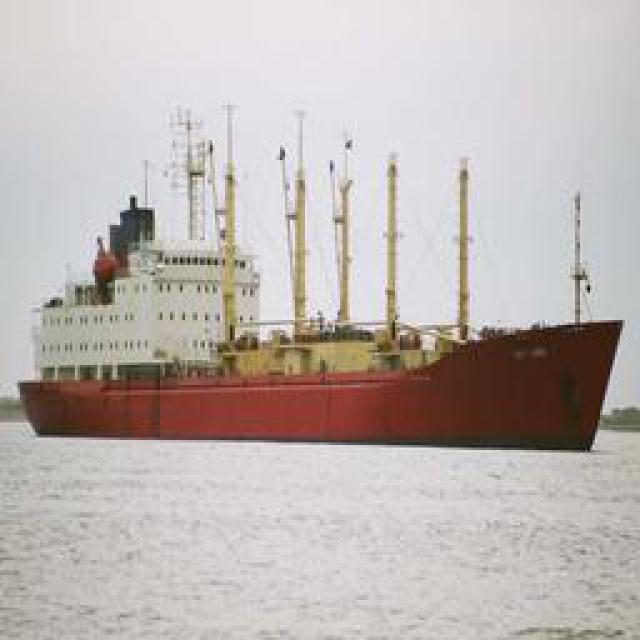Ship: (21, 157, 624, 455)
